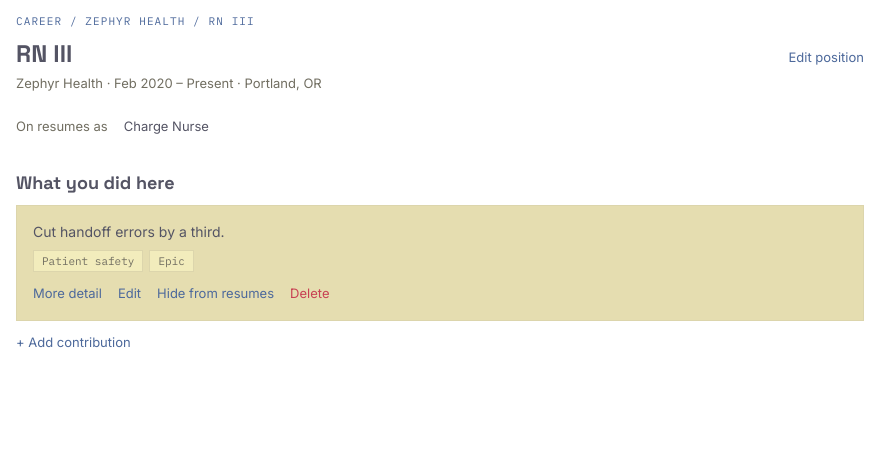
Test case: CareerPosition › renders tags as chips and expands the detail on request
The width and height of the screenshot is (881, 470).
Check: the list items read "Patient safety", "Epic", in this order, box [33,250,143,272]; [149,250,194,272]
Check: the text "structured shift-report" is not shown
Click the button "More detail". click: (67, 294)
box: [33,284,102,304]
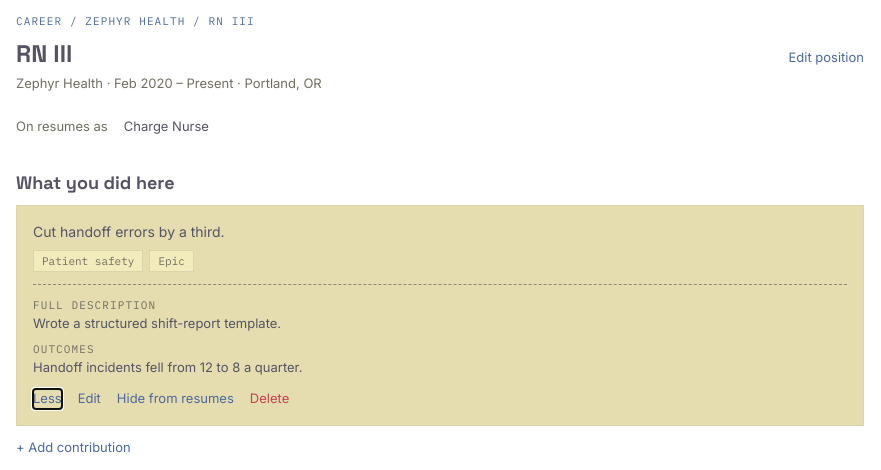
Check: the text "Wrote a structured shift-report template." is shown, box [33,314,281,330]
Check: the text "Handoff incidents fell from 12 to 8 a quarter." is shown, box [33,358,302,374]
